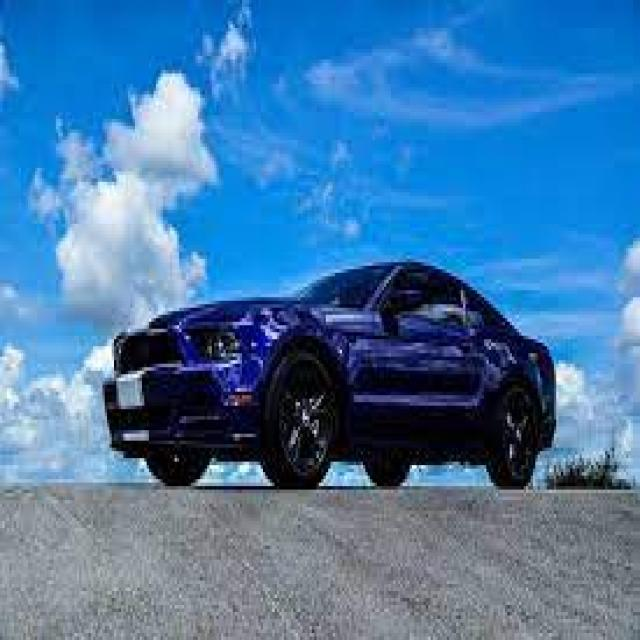car: (91, 251, 560, 491)
